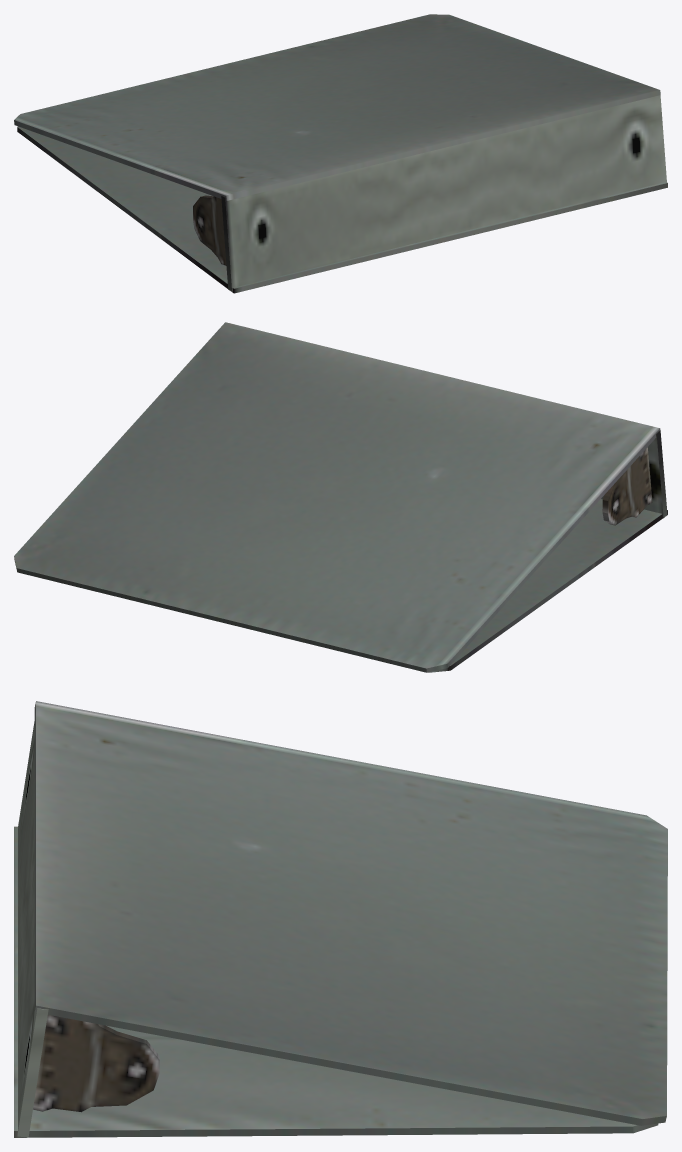
File: binder-2.FBX
3 renders of one model, top to bottom at view 1: azimuth 30°, elevation 25°; view 2: azimuth 150°, elevation 25°; view 3: azimuth 270°, elevation 25°, orthographic. The views are drawn at different scales.
Visible parts, largest first — view 1: Object01; view 2: Object01; view 3: Object01.
Part boxes in pixels (bbox=[...]): Object01: bbox=[14, 14, 667, 293]; Object01: bbox=[14, 322, 667, 672]; Object01: bbox=[14, 701, 667, 1137].
Size of the model in its own units: 12.67 by 2.56 by 11.47.
